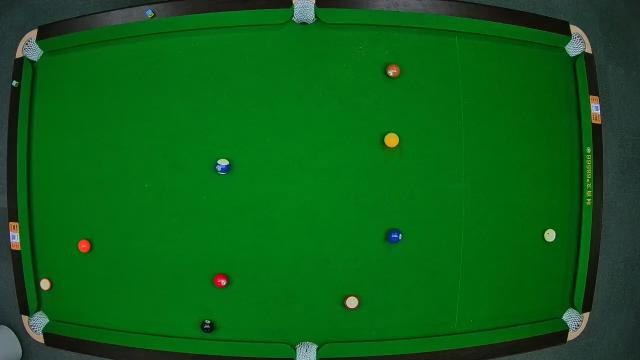bag1: (22, 40, 40, 60)
bag2: (293, 1, 317, 27)
bag3: (564, 34, 588, 56)
bag4: (27, 310, 45, 334)
bag5: (293, 339, 320, 360)
bag6: (562, 308, 586, 332)
ball0: (544, 229, 556, 243)
ball1: (384, 132, 400, 148)
ball10: (215, 159, 231, 175)
ball11: (344, 294, 360, 310)
ball12: (40, 278, 52, 290)
ball2: (386, 228, 402, 244)
ball3: (213, 273, 229, 289)
ball5: (78, 238, 92, 254)
ball7: (386, 63, 402, 78)
ball8: (200, 318, 216, 334)
